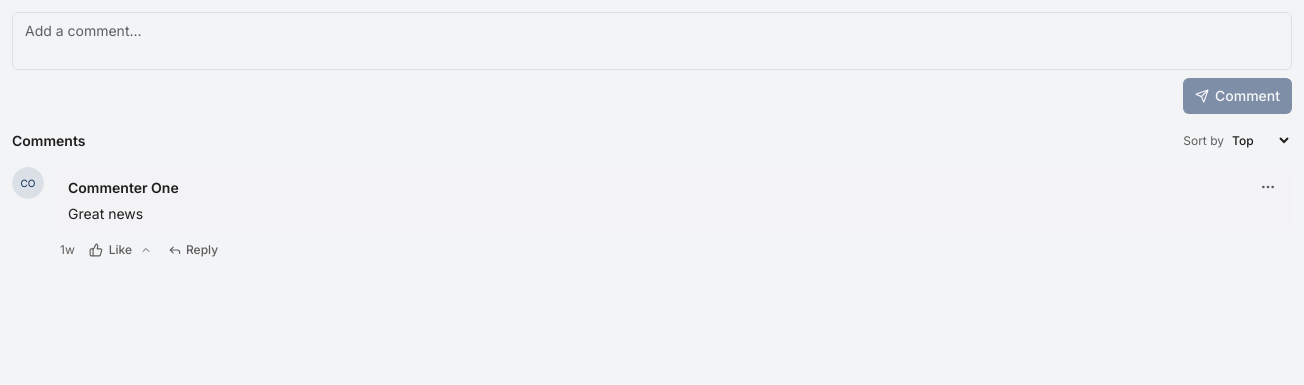
CommentThread › posts a new top-level comment at the top
The width and height of the screenshot is (1304, 385).
Expected: the text "Great news" is shown, [68,205,143,222]
In the dropdown named "Write a comment": [652, 41] box [12,12,1292,70], type "Fresh take"
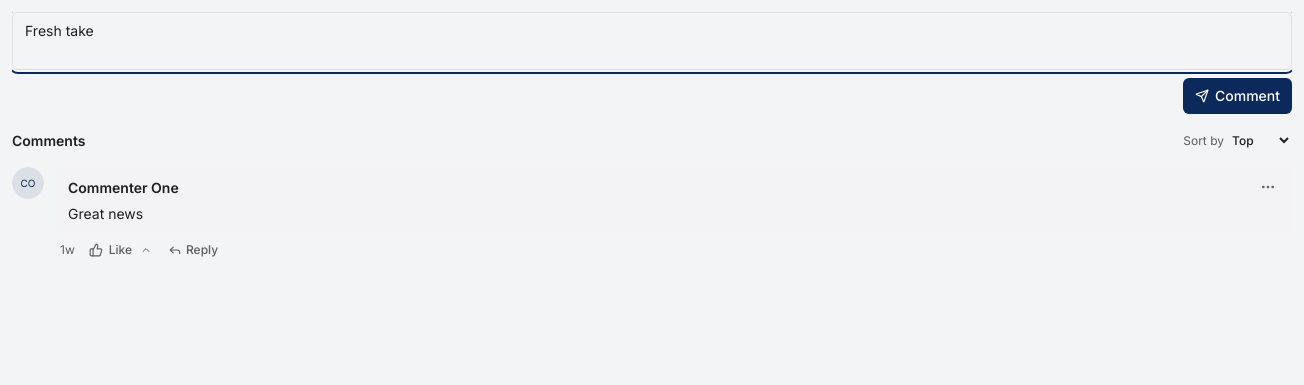
Click the button "Comment": [1238, 96] box [1183,78,1292,114]
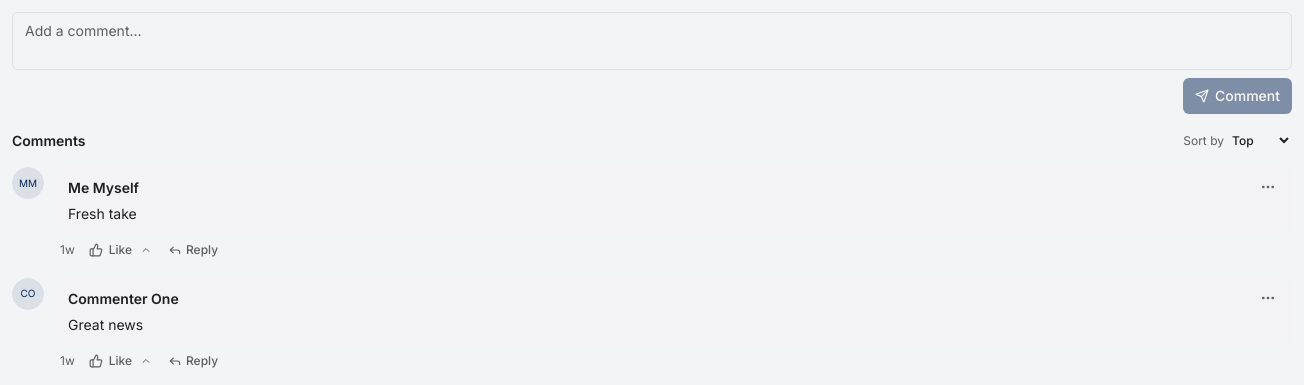
Expected: the text "Fresh take" is shown, [68,205,137,222]
